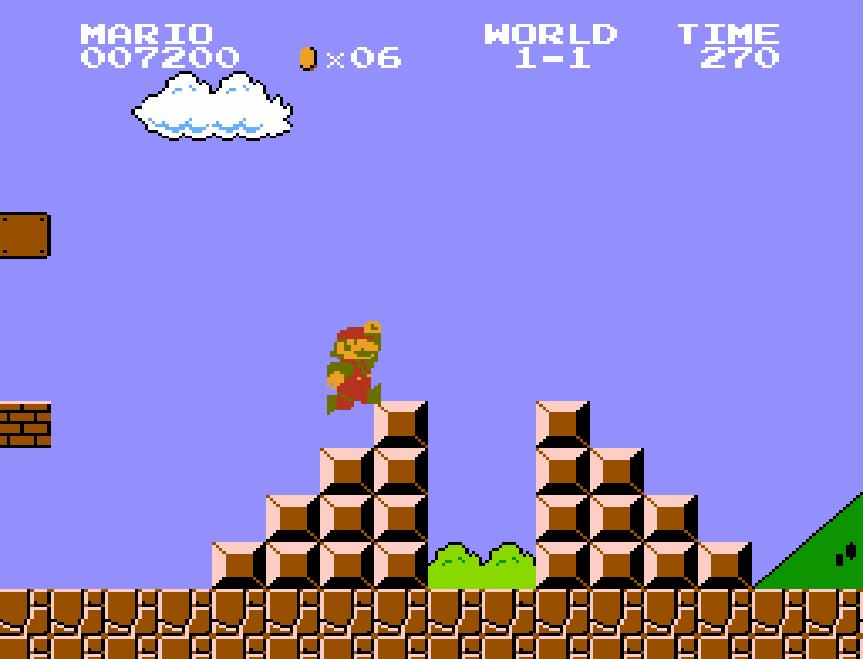big_mario: (324, 319, 382, 417)
